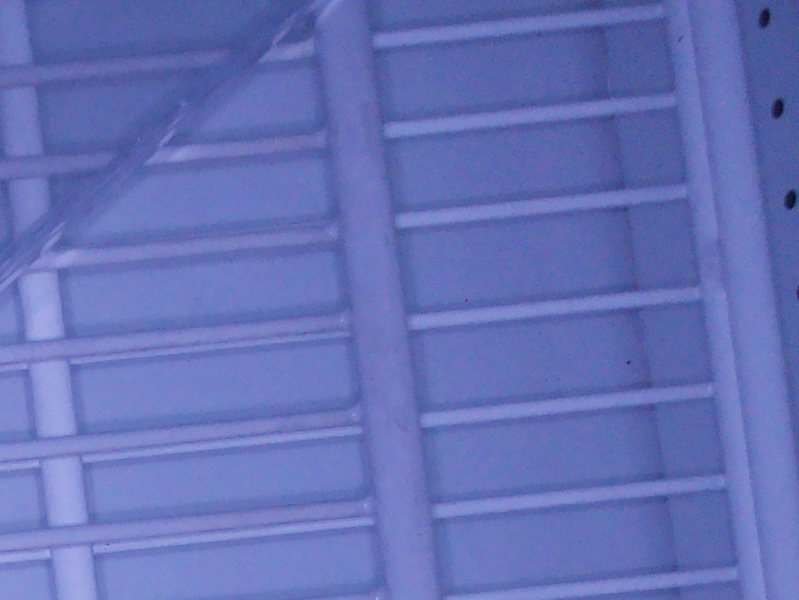plate: (1, 1, 334, 284)
